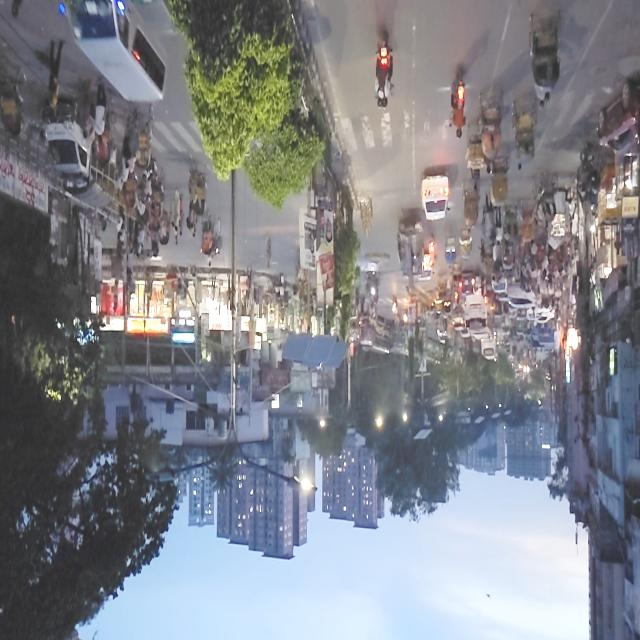maroon: (598, 78, 640, 156)
silver: (62, 0, 166, 108)
white: (421, 170, 450, 220)
